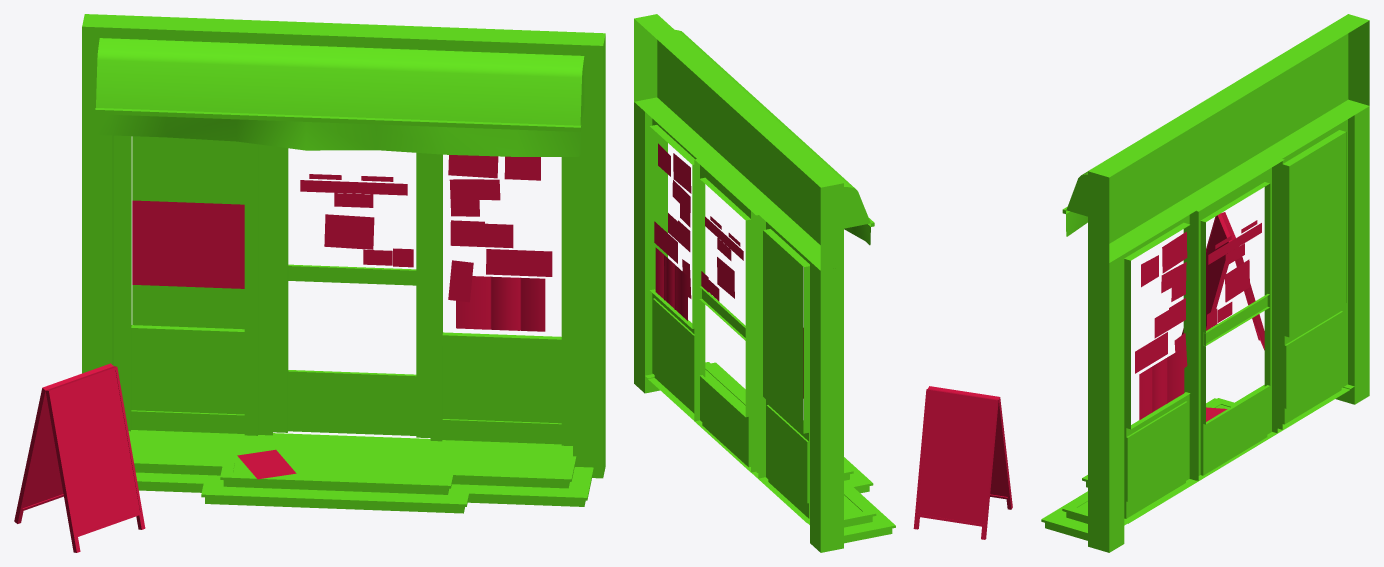
The model's file is pho.fbx.
The picture shows the model from 3 angles, left to right: view 1: azimuth 30°, elevation 25°; view 2: azimuth 150°, elevation 25°; view 3: azimuth 270°, elevation 25°; orthographic projection. The views are drawn at different scales.
Visible parts, largest first — view 1: pho_storefront; view 2: pho_storefront; view 3: pho_storefront.
Boxes of the visible parts, <box> form: pho_storefront: <box>14,14,605,552</box>; pho_storefront: <box>634,14,1012,552</box>; pho_storefront: <box>1041,14,1369,552</box>.
Bounding box in the file's own units: 420 × 345 × 274.
